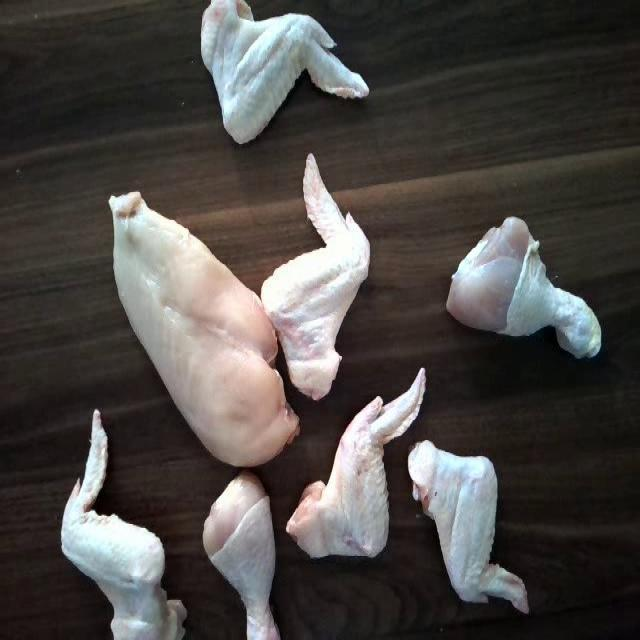breast: (96, 190, 298, 467)
leg: (440, 210, 606, 364), (198, 469, 286, 640)
wing: (49, 399, 186, 640), (293, 364, 425, 566), (263, 154, 371, 390), (196, 0, 376, 138), (409, 432, 532, 616)
